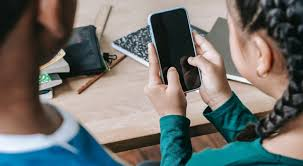Mobile-phone: (147, 6, 207, 97)
